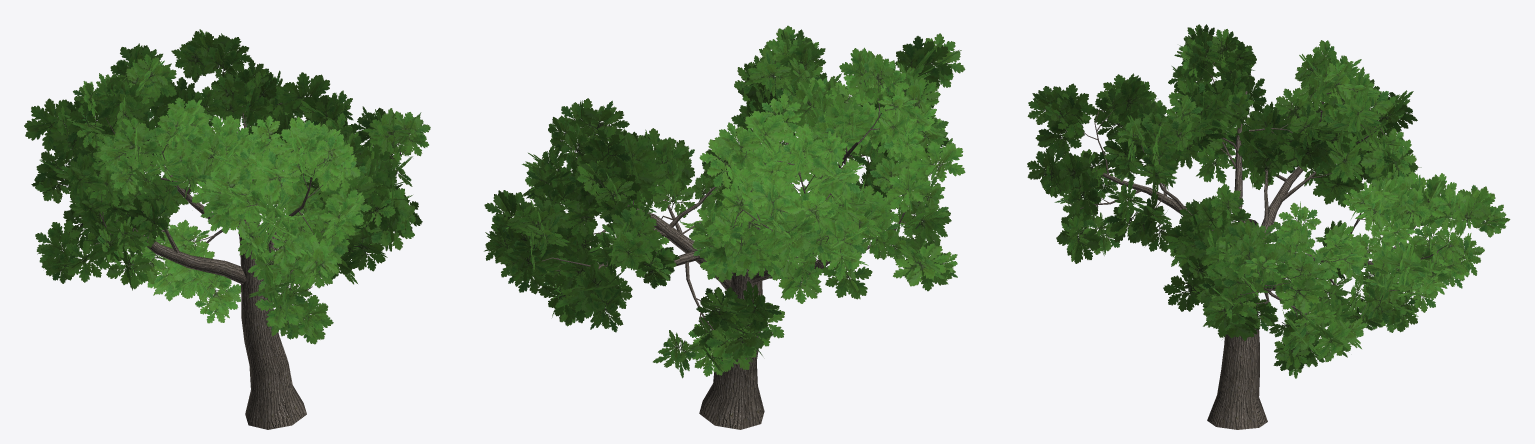
File: nature-green-broad-oak_v2.glb
3 renders of one model, left to right at view 1: azimuth 30°, elevation 25°; view 2: azimuth 150°, elevation 25°; view 3: azimuth 270°, elevation 25°, orthographic. The views are drawn at different scales.
Parts seen in each view (by area): view 1: nature-green-broad-oak; view 2: nature-green-broad-oak; view 3: nature-green-broad-oak.
Part boxes in pixels (x1,y1,x2,y2): nature-green-broad-oak: (24, 29, 430, 429); nature-green-broad-oak: (484, 25, 965, 429); nature-green-broad-oak: (1027, 24, 1510, 429).
Bounding box in the file's own units: 12.09 × 10.37 × 13.49.
2 materials, 2 textured.
